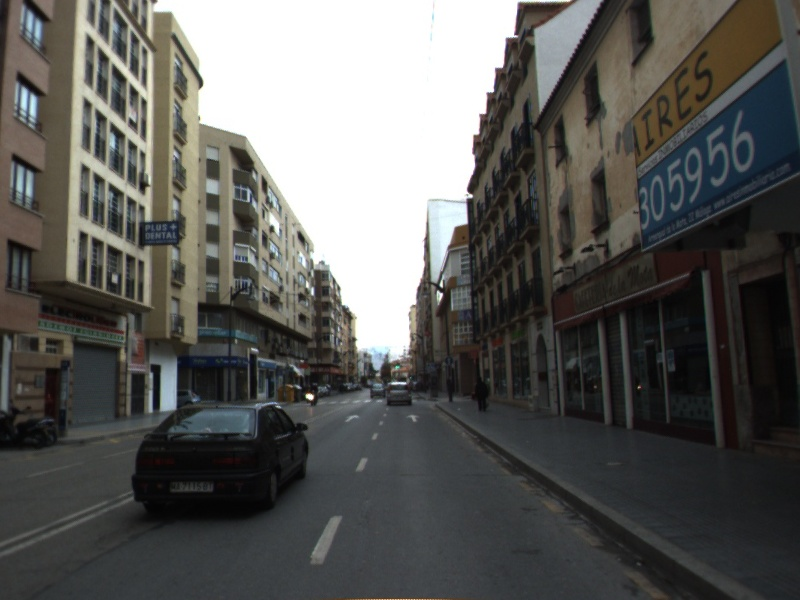STRAIGHT: (343, 413, 361, 423), (404, 413, 421, 423)
